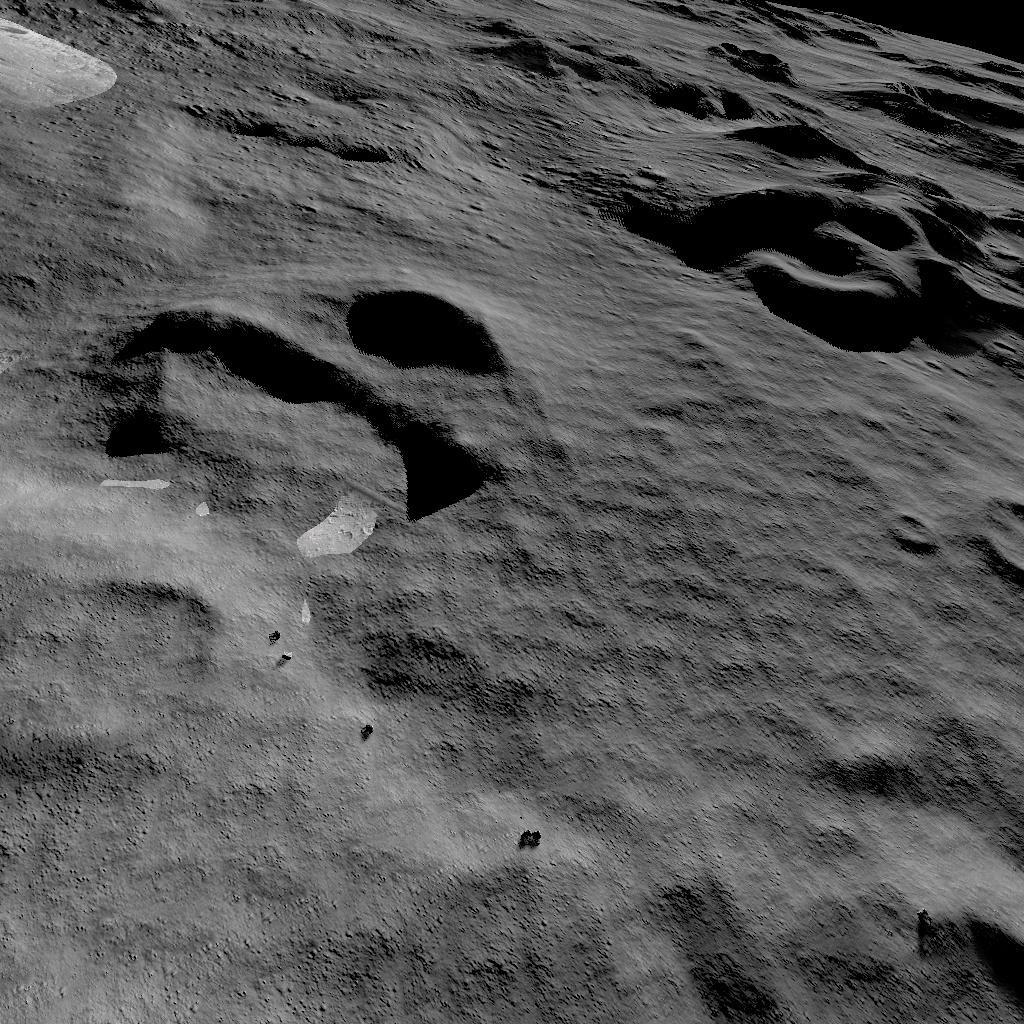Boulders: (0, 14, 121, 120)
Crater: (579, 0, 1024, 344), (104, 275, 519, 536), (2, 556, 241, 764), (869, 853, 1024, 1024), (954, 468, 1024, 592), (878, 502, 935, 572)
Plan surface: (556, 366, 849, 1024), (0, 774, 489, 1024)
